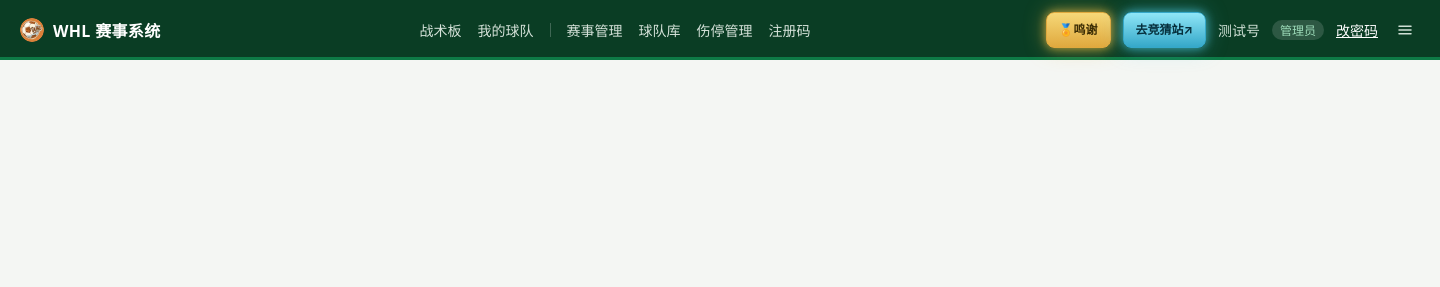
Test: 顶栏 ≡ 菜单（时区 + 登出收纳） › 已登录（oidc）：登出在菜单内且两段式——第一击只进确认态，第二击才 logout
The image size is (1440, 287).
What coordinates should you click on to do the following:
click the button with class "user-menu-btn"
I would click on:
 (1405, 30)
Its box is [1390,17,1420,43].
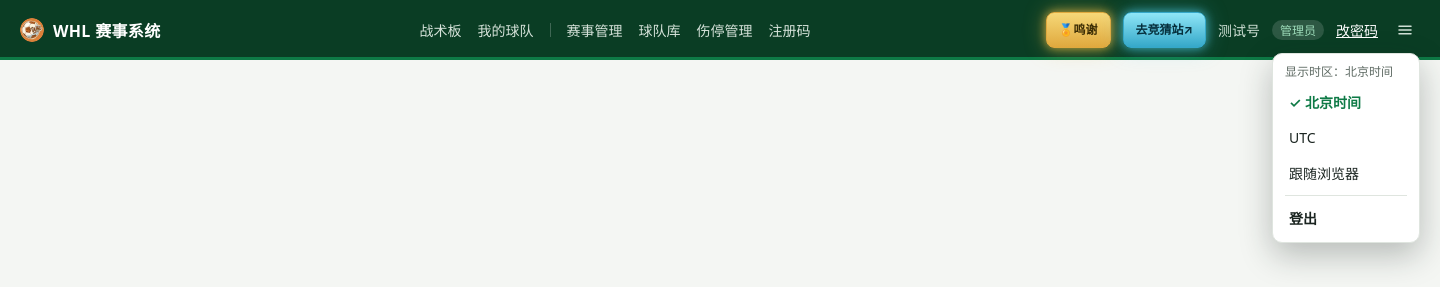
Expected: the menu item "登出" is shown
What coordinates should you click on to do the following:
click the menu item "登出"
I would click on:
 (1346, 218)
Its box is [1279,200,1413,236].
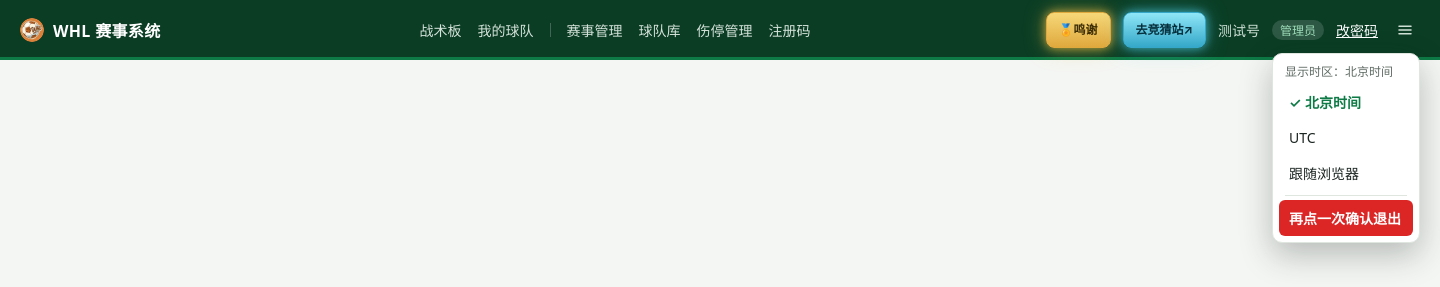
Expected: the menu item "再点一次确认退出" is shown
What coordinates should you click on to do the following:
click the menu item "再点一次确认退出"
I would click on:
 (1346, 218)
Its box is [1279,200,1413,236].
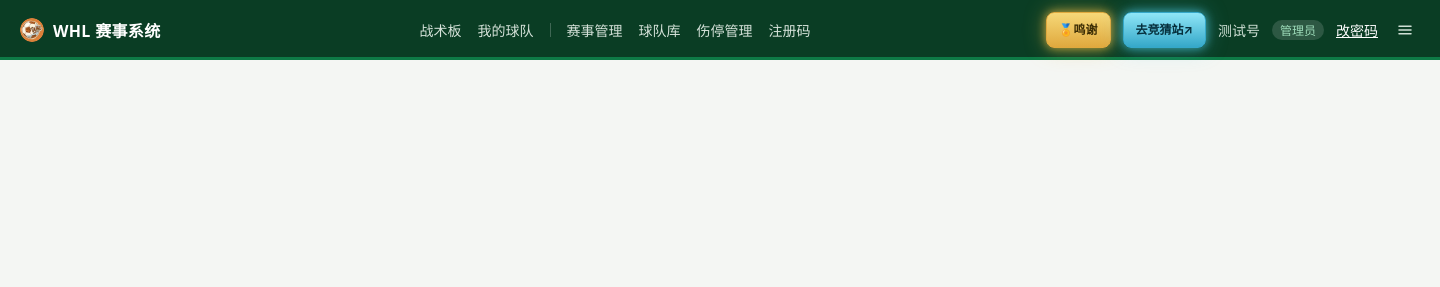
Expected: the menu with class "user-menu" is gone
